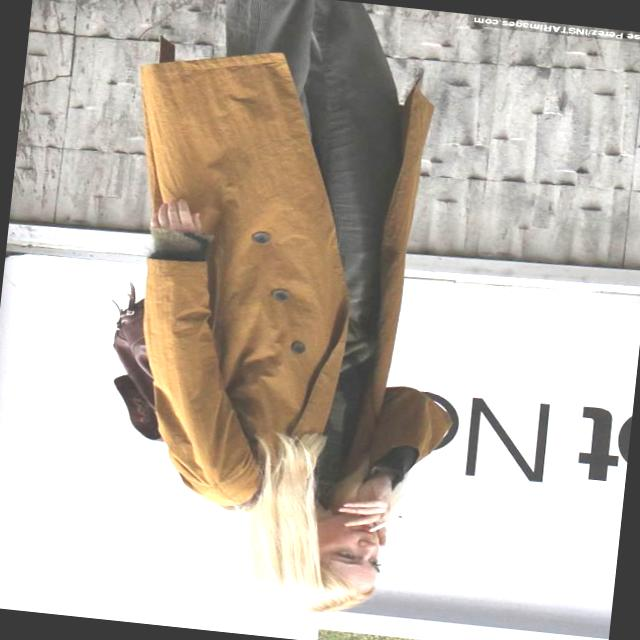cigarette: (364, 503, 410, 549)
